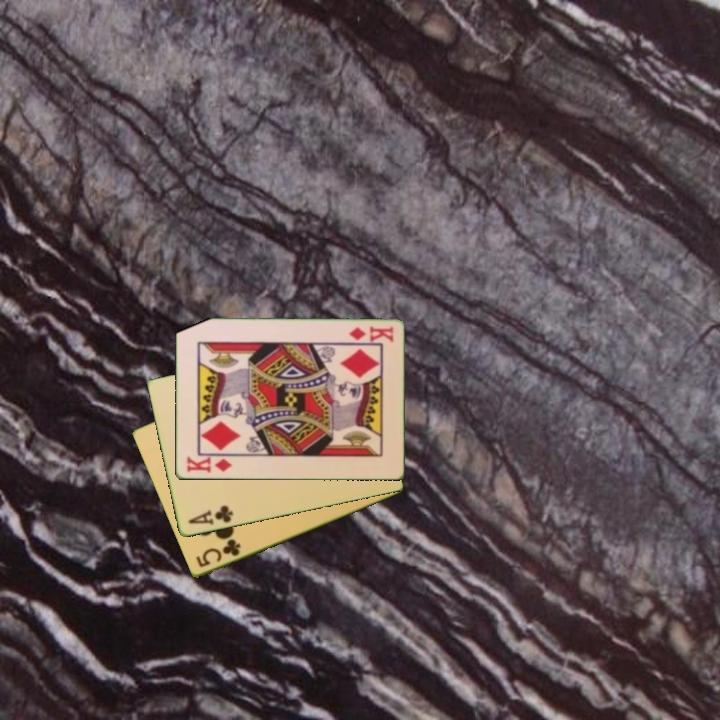5c: (192, 536, 244, 571)
Ac: (184, 502, 236, 528)
Kd: (183, 453, 234, 475), (345, 323, 396, 345)
